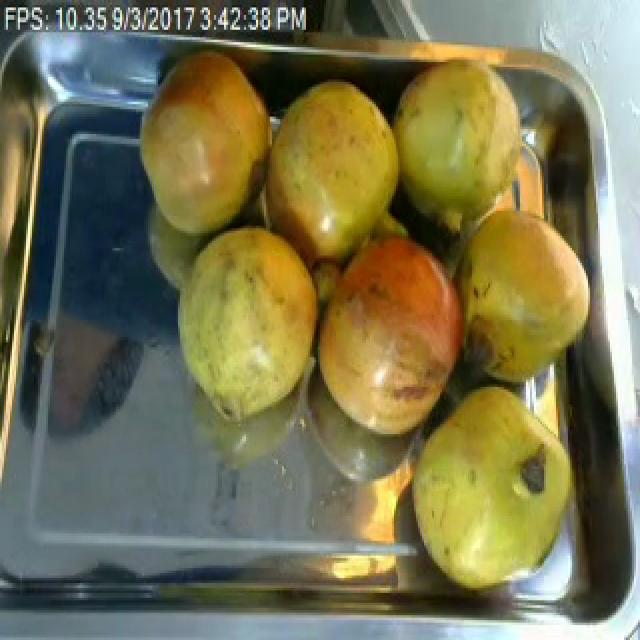fruit: (402, 364, 590, 608), (308, 214, 476, 452), (158, 211, 332, 434), (436, 188, 610, 402), (382, 49, 542, 250), (258, 74, 412, 280), (130, 42, 280, 243)
